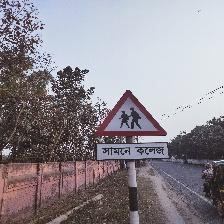College-in-front: (86, 81, 186, 173)
